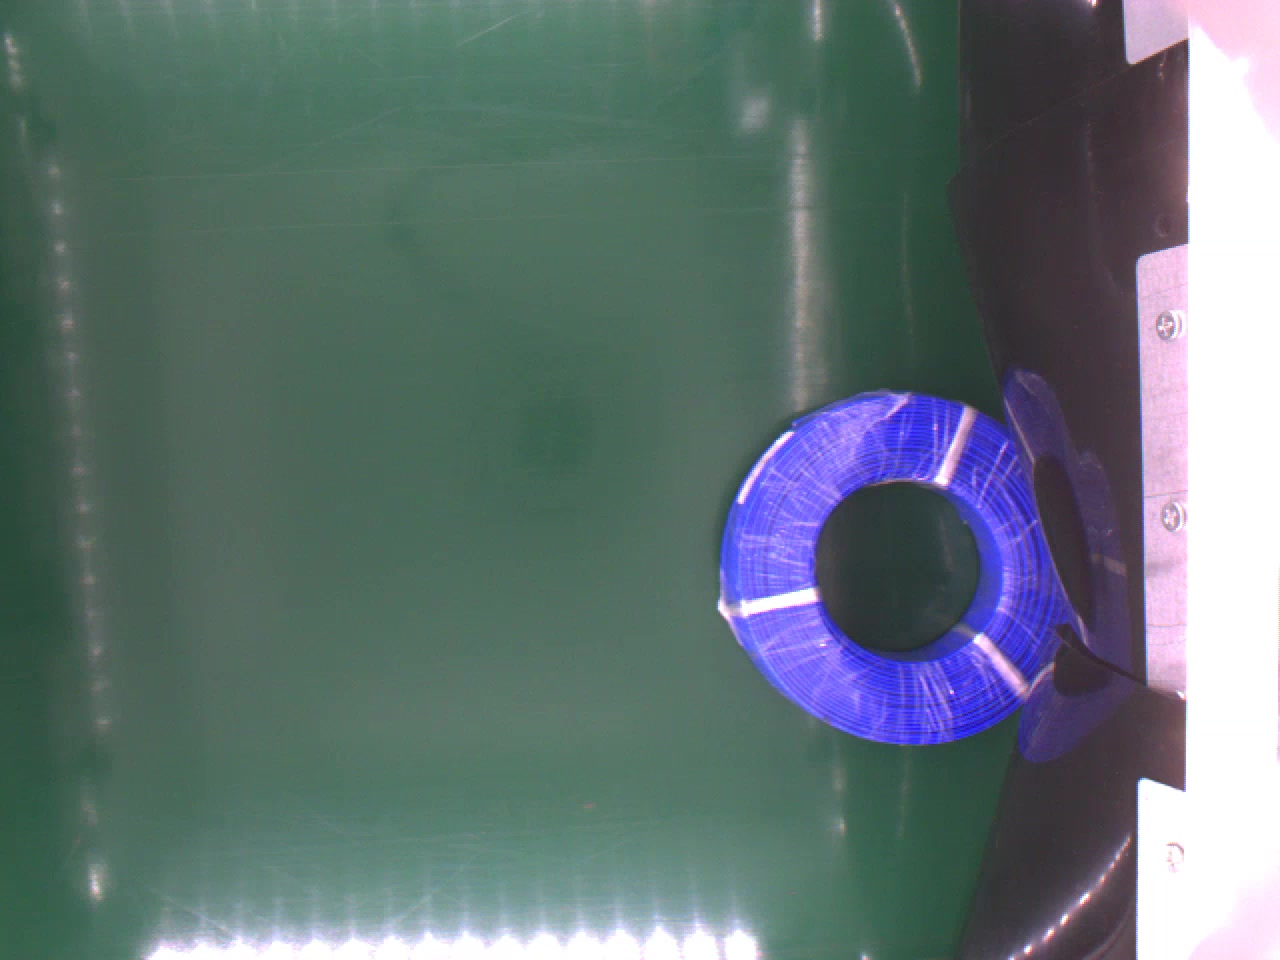blue: (717, 389, 1071, 748)
